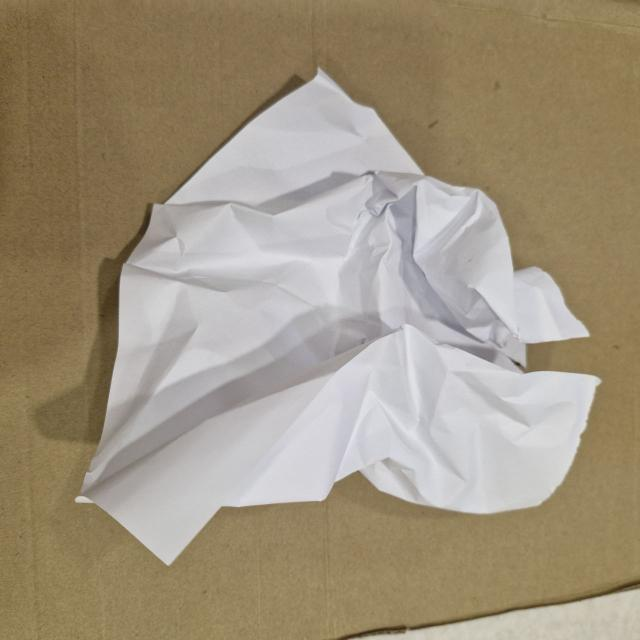paper: (78, 60, 606, 568)
